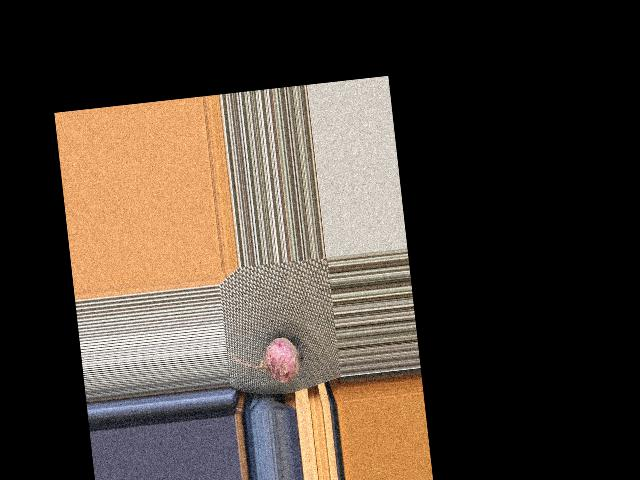beet: (231, 335, 307, 389)
